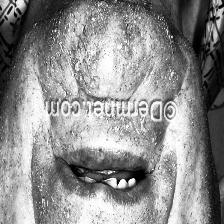Non-Cancerous Skin Condition: (117, 26, 131, 55), (166, 27, 176, 55), (75, 61, 80, 72), (170, 70, 174, 79)
